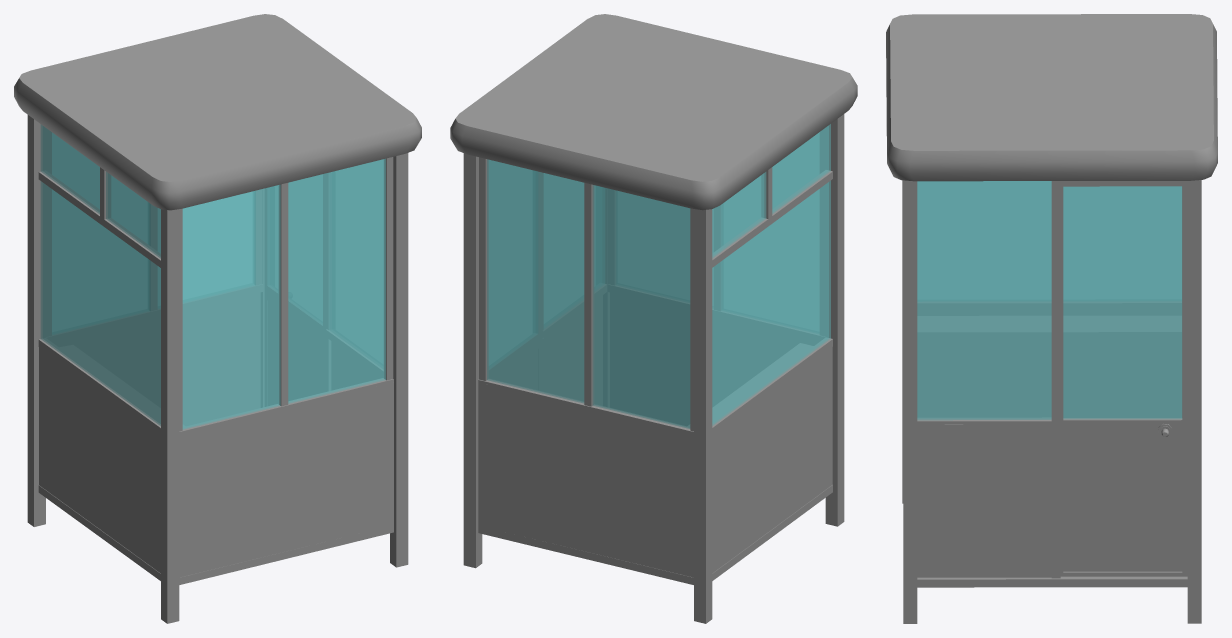
Rendered from CK-baoanting01-JZ.FBX.
3 renders of one model, left to right at view 1: azimuth 30°, elevation 25°; view 2: azimuth 150°, elevation 25°; view 3: azimuth 270°, elevation 25°, orthographic. The views are drawn at different scales.
Parts seen in each view (by area): view 1: CK-baoanting01-JZ; view 2: CK-baoanting01-JZ; view 3: CK-baoanting01-JZ.
Part boxes in pixels (<box>): CK-baoanting01-JZ: <box>14,14,421,623</box>; CK-baoanting01-JZ: <box>450,14,857,623</box>; CK-baoanting01-JZ: <box>886,14,1217,623</box>.
Bounding box in the file's own units: 1.89 × 3.01 × 1.89.
